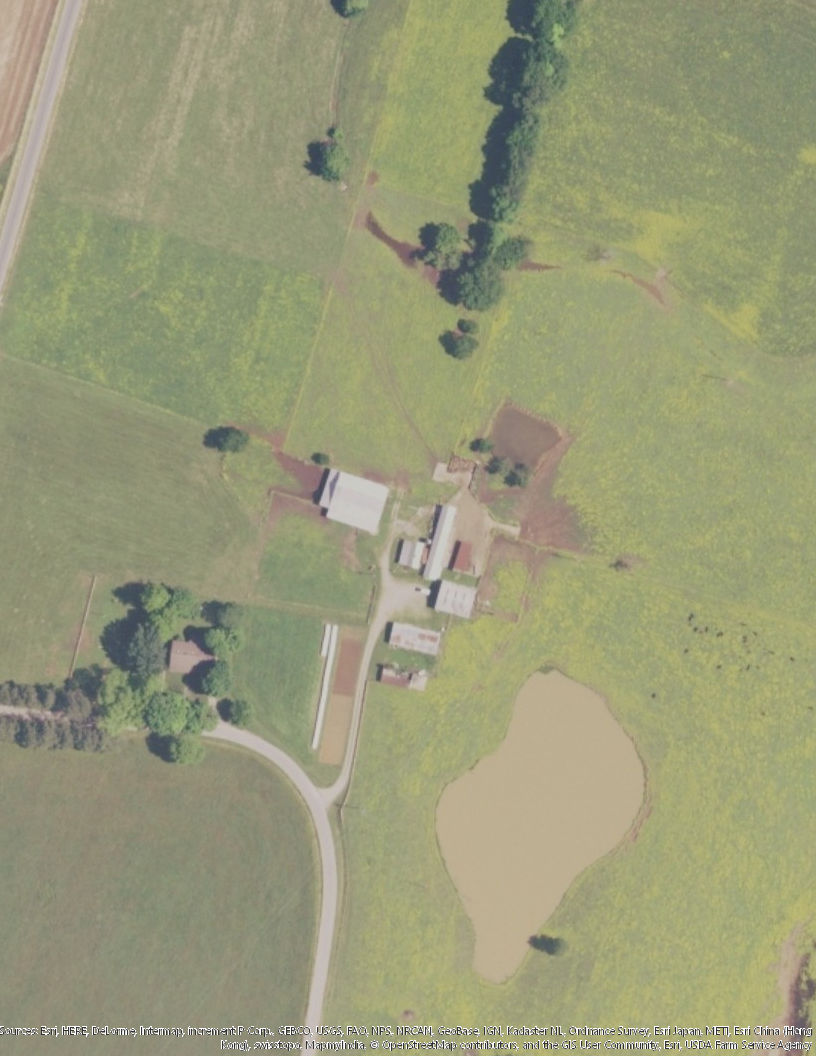cafo: (419, 502, 461, 584), (384, 618, 450, 658)
